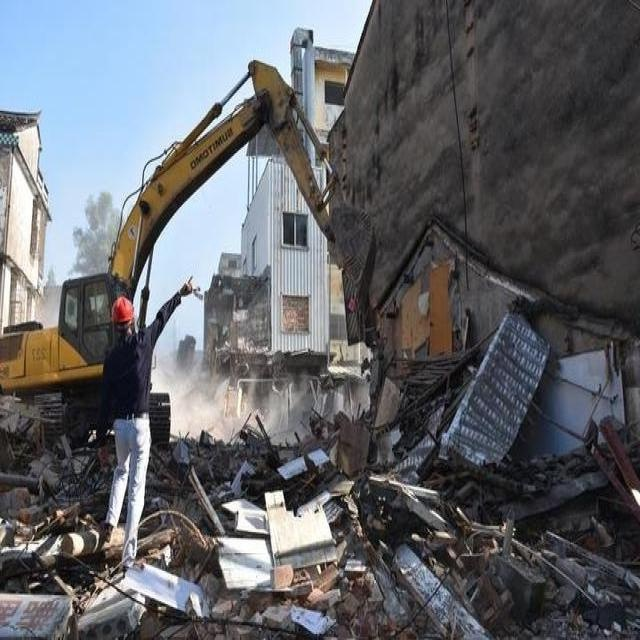Con_Casco: (111, 295, 134, 337)
